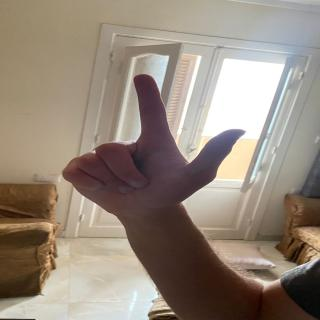LAAM: (48, 58, 261, 213)
